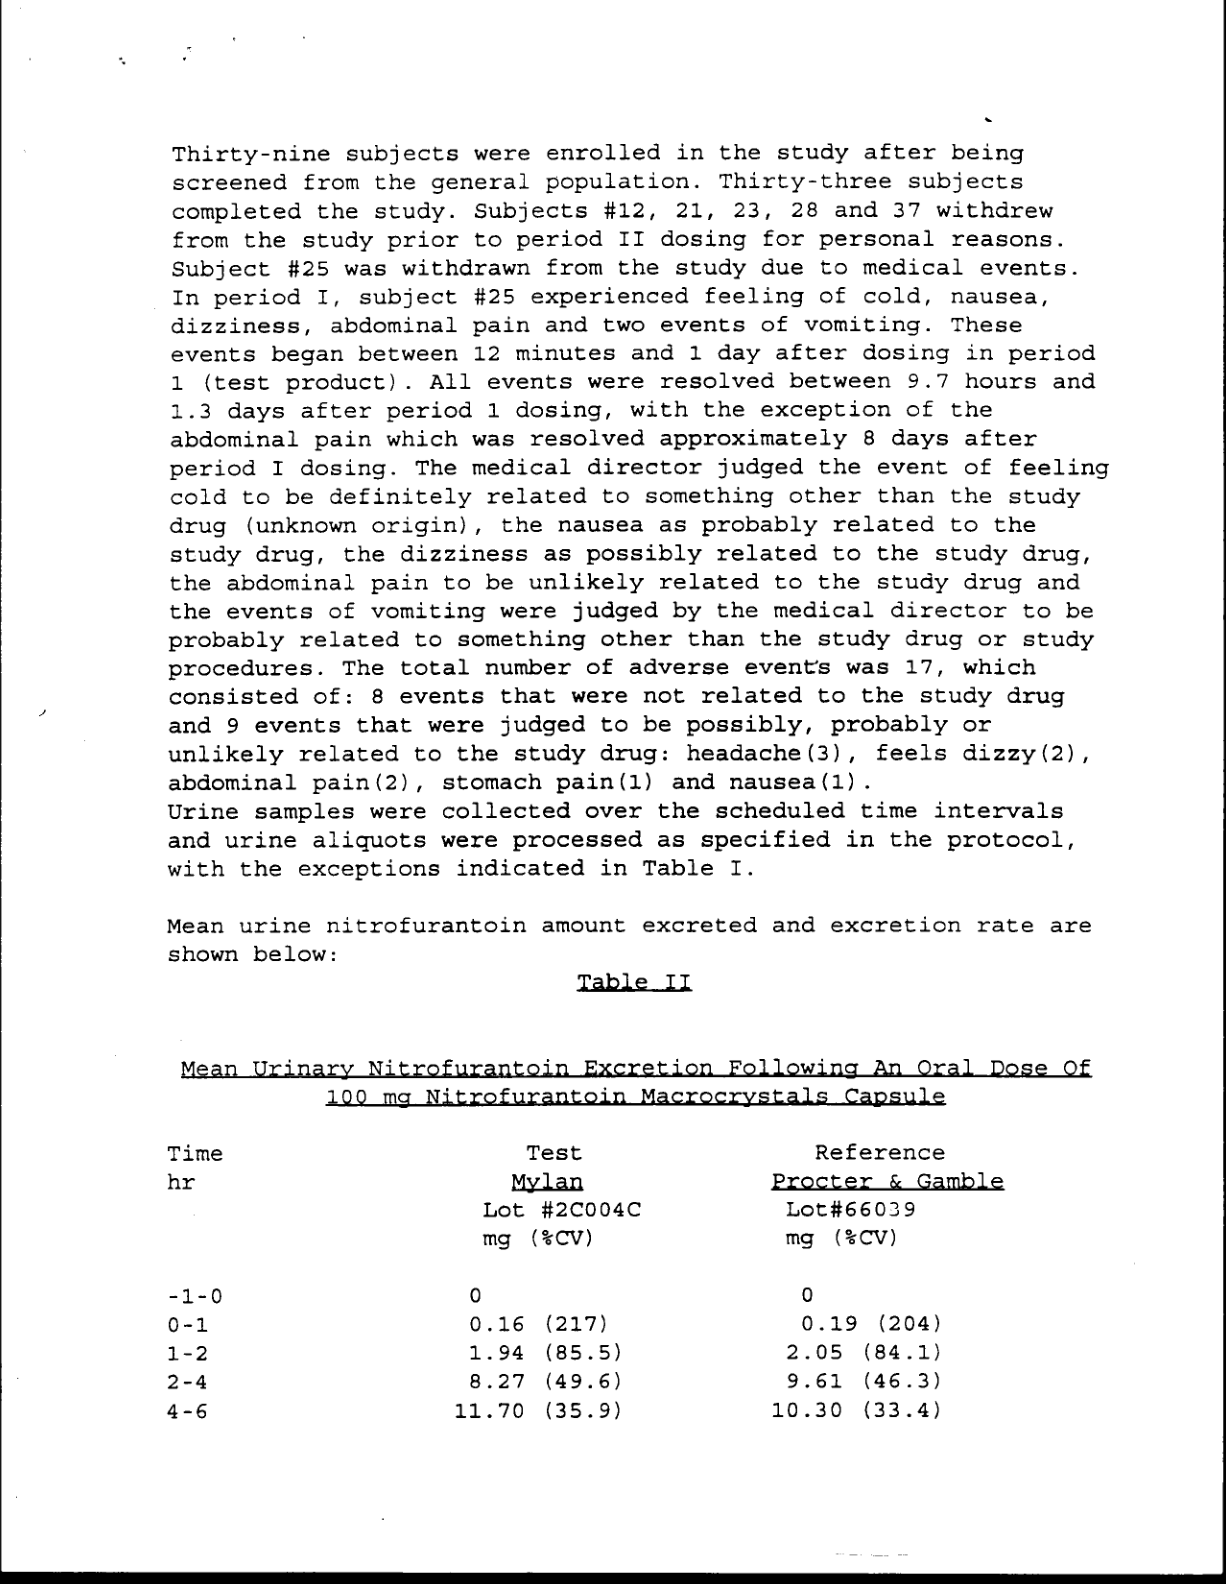nolines: (161, 1137, 1008, 1427)
